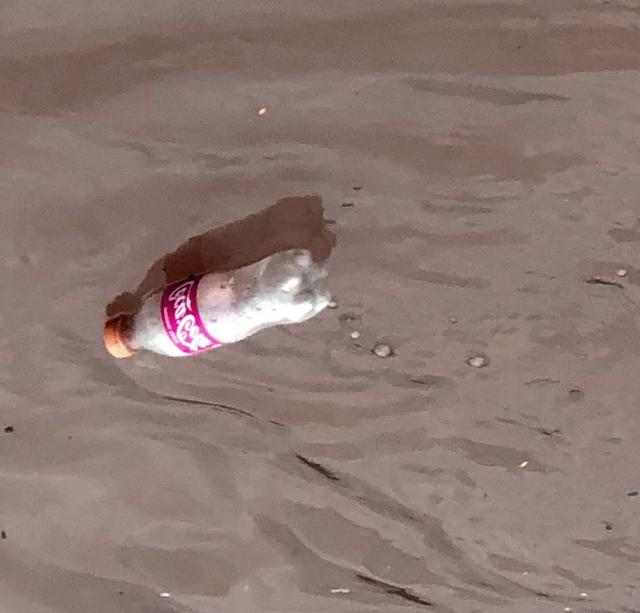Plastic: (99, 244, 336, 363)
